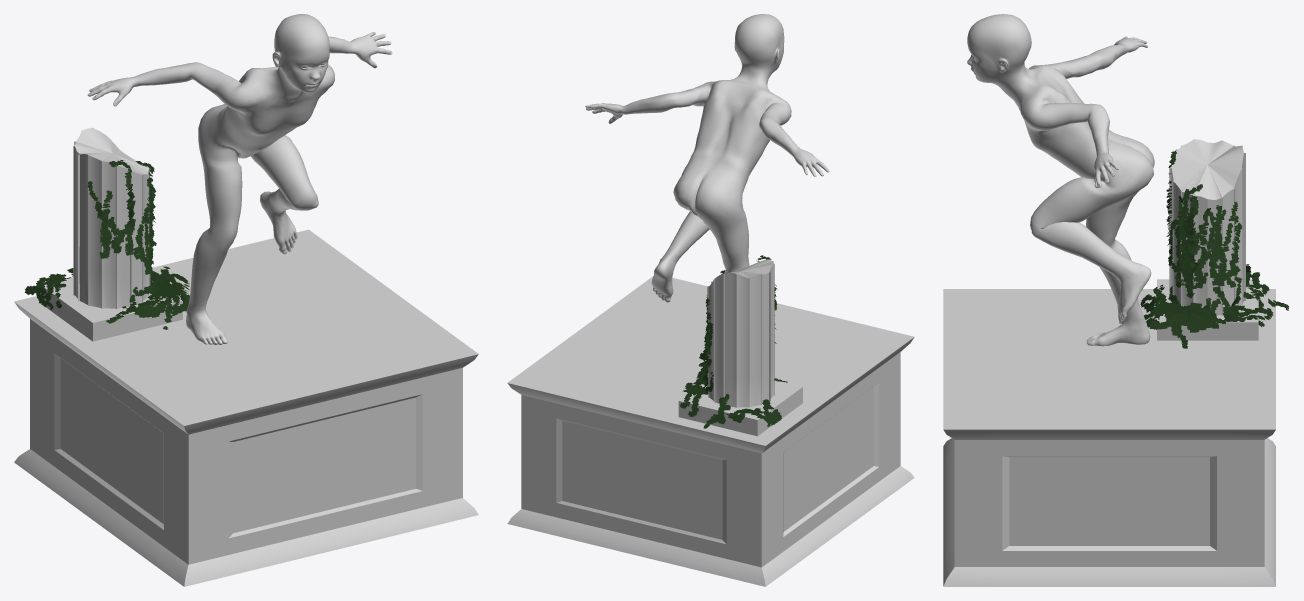
Rendered from child_statue.fbx.
3 renders of one model, left to right at view 1: azimuth 30°, elevation 25°; view 2: azimuth 150°, elevation 25°; view 3: azimuth 270°, elevation 25°, orthographic. The views are drawn at different scales.
Parts seen in each view (by area): view 1: column, Desktop:HighPolyEyes.001, IvyLeaf; view 2: column, Desktop:HighPolyEyes.001, IvyLeaf; view 3: column, Desktop:HighPolyEyes.001, IvyLeaf.
Boxes of the visible parts, x1,y1,x2,y2 form: column: [14, 128, 478, 586]; Desktop:HighPolyEyes.001: [87, 14, 392, 344]; IvyLeaf: [24, 160, 189, 329]; column: [507, 259, 914, 586]; Desktop:HighPolyEyes.001: [585, 14, 829, 302]; IvyLeaf: [680, 255, 787, 428]; column: [943, 139, 1275, 586]; Desktop:HighPolyEyes.001: [967, 14, 1154, 346]; IvyLeaf: [1140, 149, 1288, 348].
Bounding box in the file's own units: 217 × 356 × 224.
